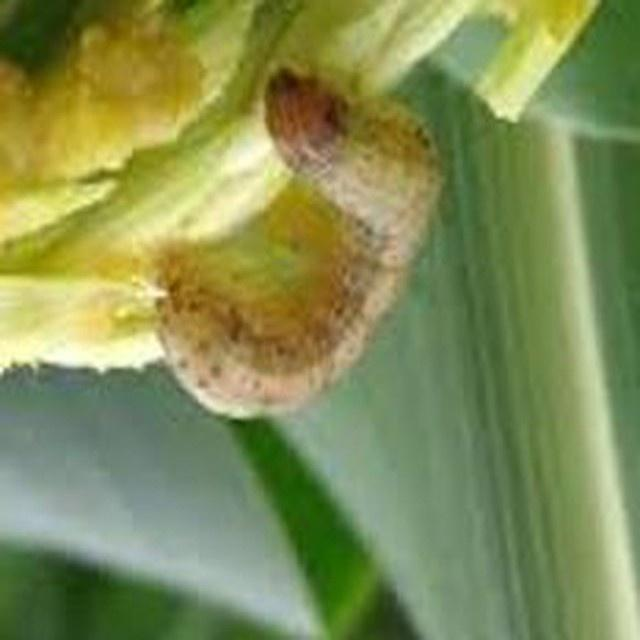gusano_cogollero: (156, 74, 452, 418)
